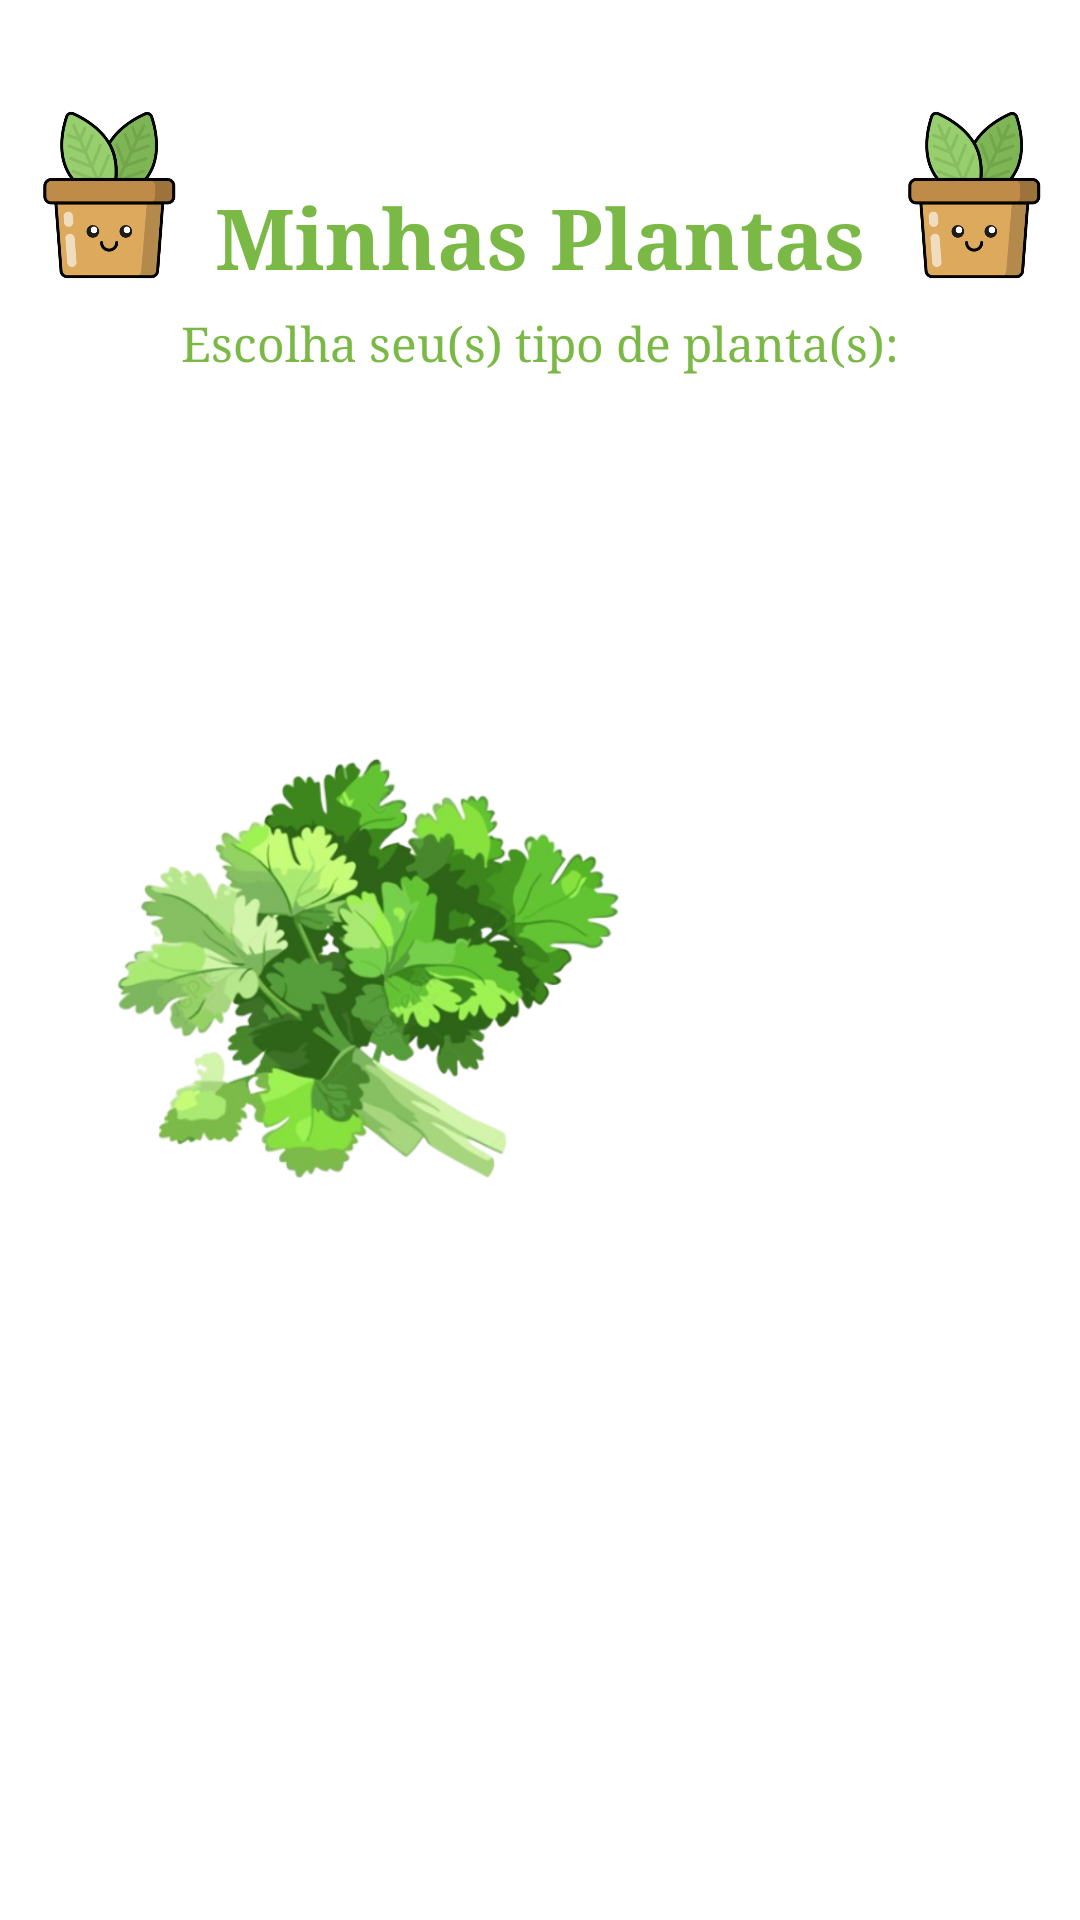

Icon click points for this 1080px x 1920px phone screenshot, format (x,y):
plantinha: (109,195), (974,195)
